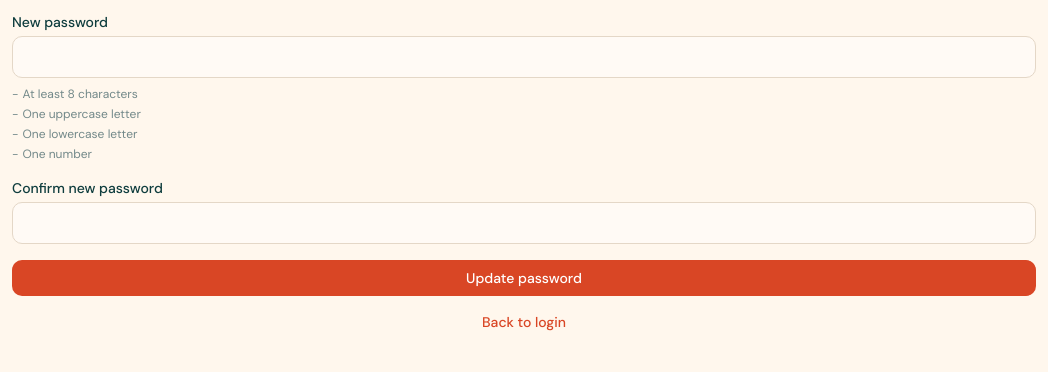
components/auth/UpdatePasswordForm › shows validation error when passwords do not match
Type "Password123!" into the password field labelled "New password" at (524, 57), box [12,36,1036,78]
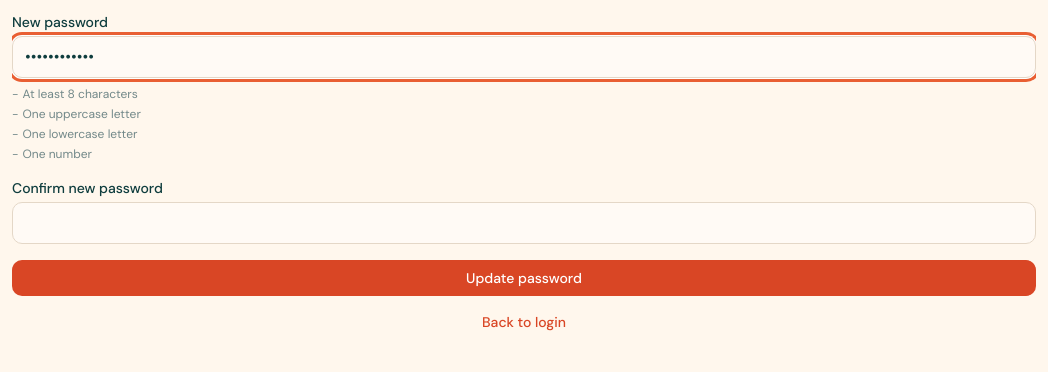
Type "Password456!" into the password field labelled "Confirm new password" at (524, 223), box [12,202,1036,244]
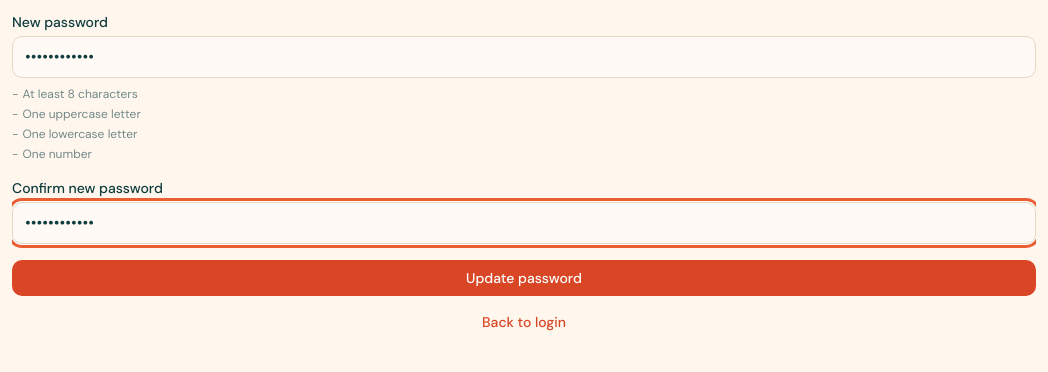
Click the button "Update password" at (524, 278), box [12,260,1036,296]
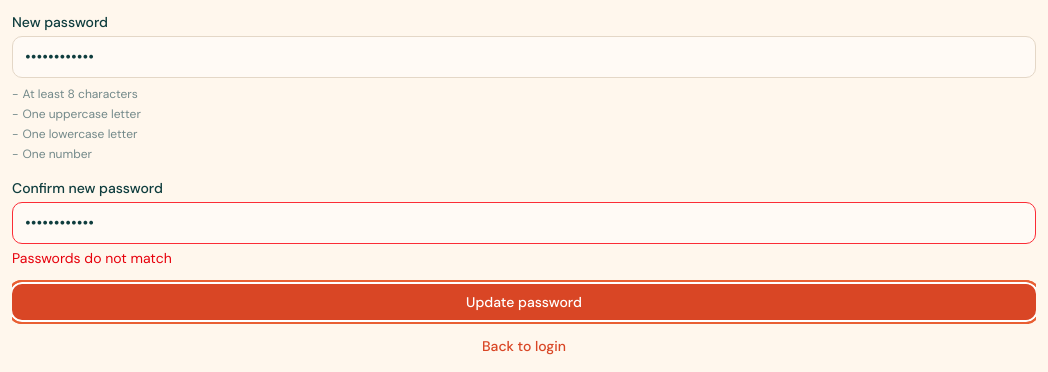
Now the text "Passwords do not match" is shown, box [12,249,172,267]
